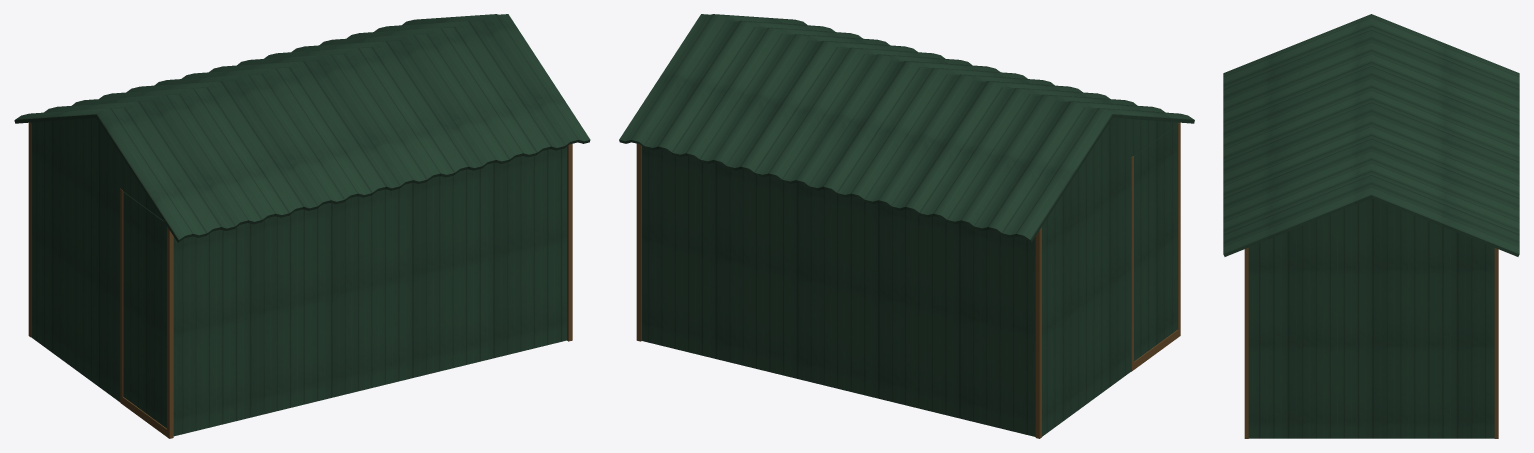
The model's file is garage.glb.
The picture shows the model from 3 angles, left to right: view 1: azimuth 30°, elevation 25°; view 2: azimuth 150°, elevation 25°; view 3: azimuth 270°, elevation 25°; orthographic projection. The views are drawn at different scales.
Visible parts, largest first — view 1: Box002; view 2: Box002; view 3: Box002.
Part boxes in pixels (bbox=[...]): Box002: bbox=[14, 14, 590, 438]; Box002: bbox=[619, 14, 1194, 438]; Box002: bbox=[1223, 14, 1519, 438].
Size of the model in its own units: 5.07 by 3.25 by 3.5.
Materials: 2 (1 with a texture image).
